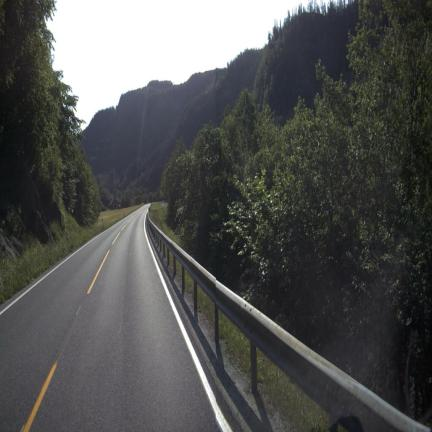Road: (0, 206, 218, 431)
